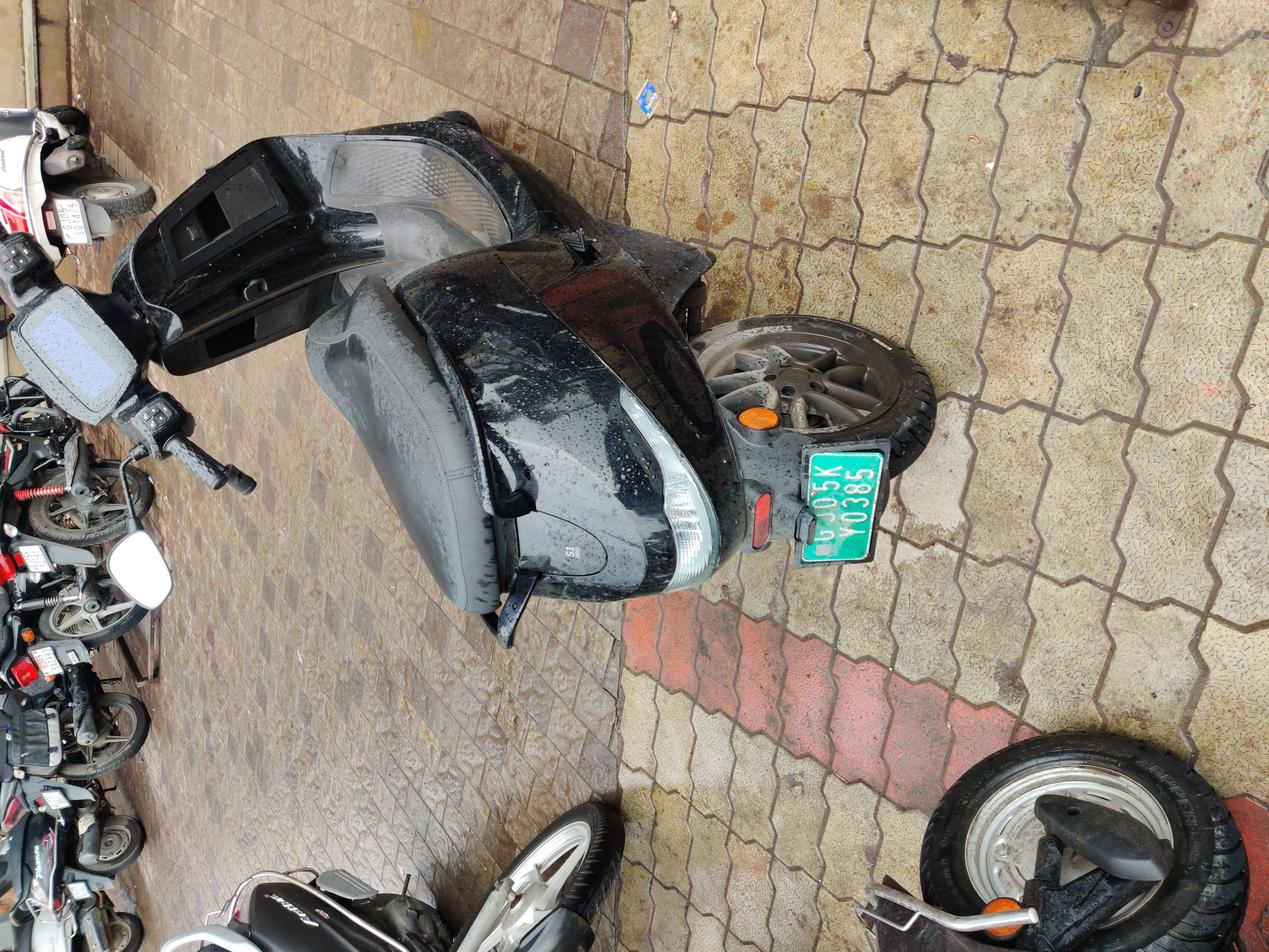green license plate: (514, 600, 685, 673)
